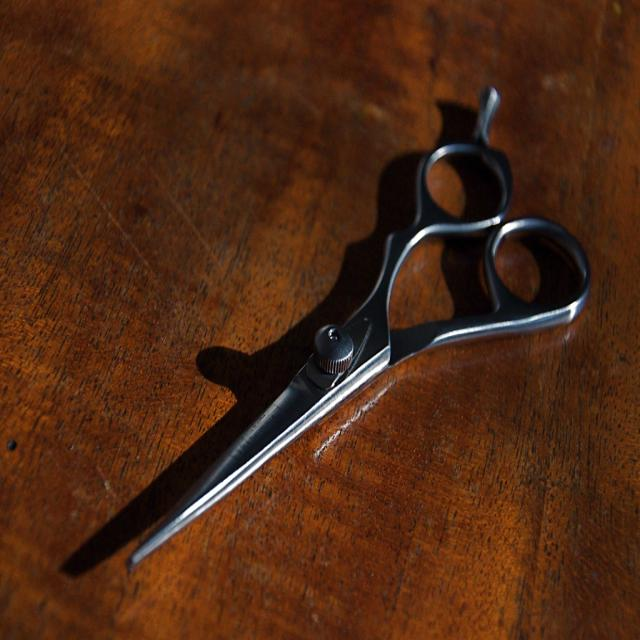scissors: (124, 84, 592, 570)
